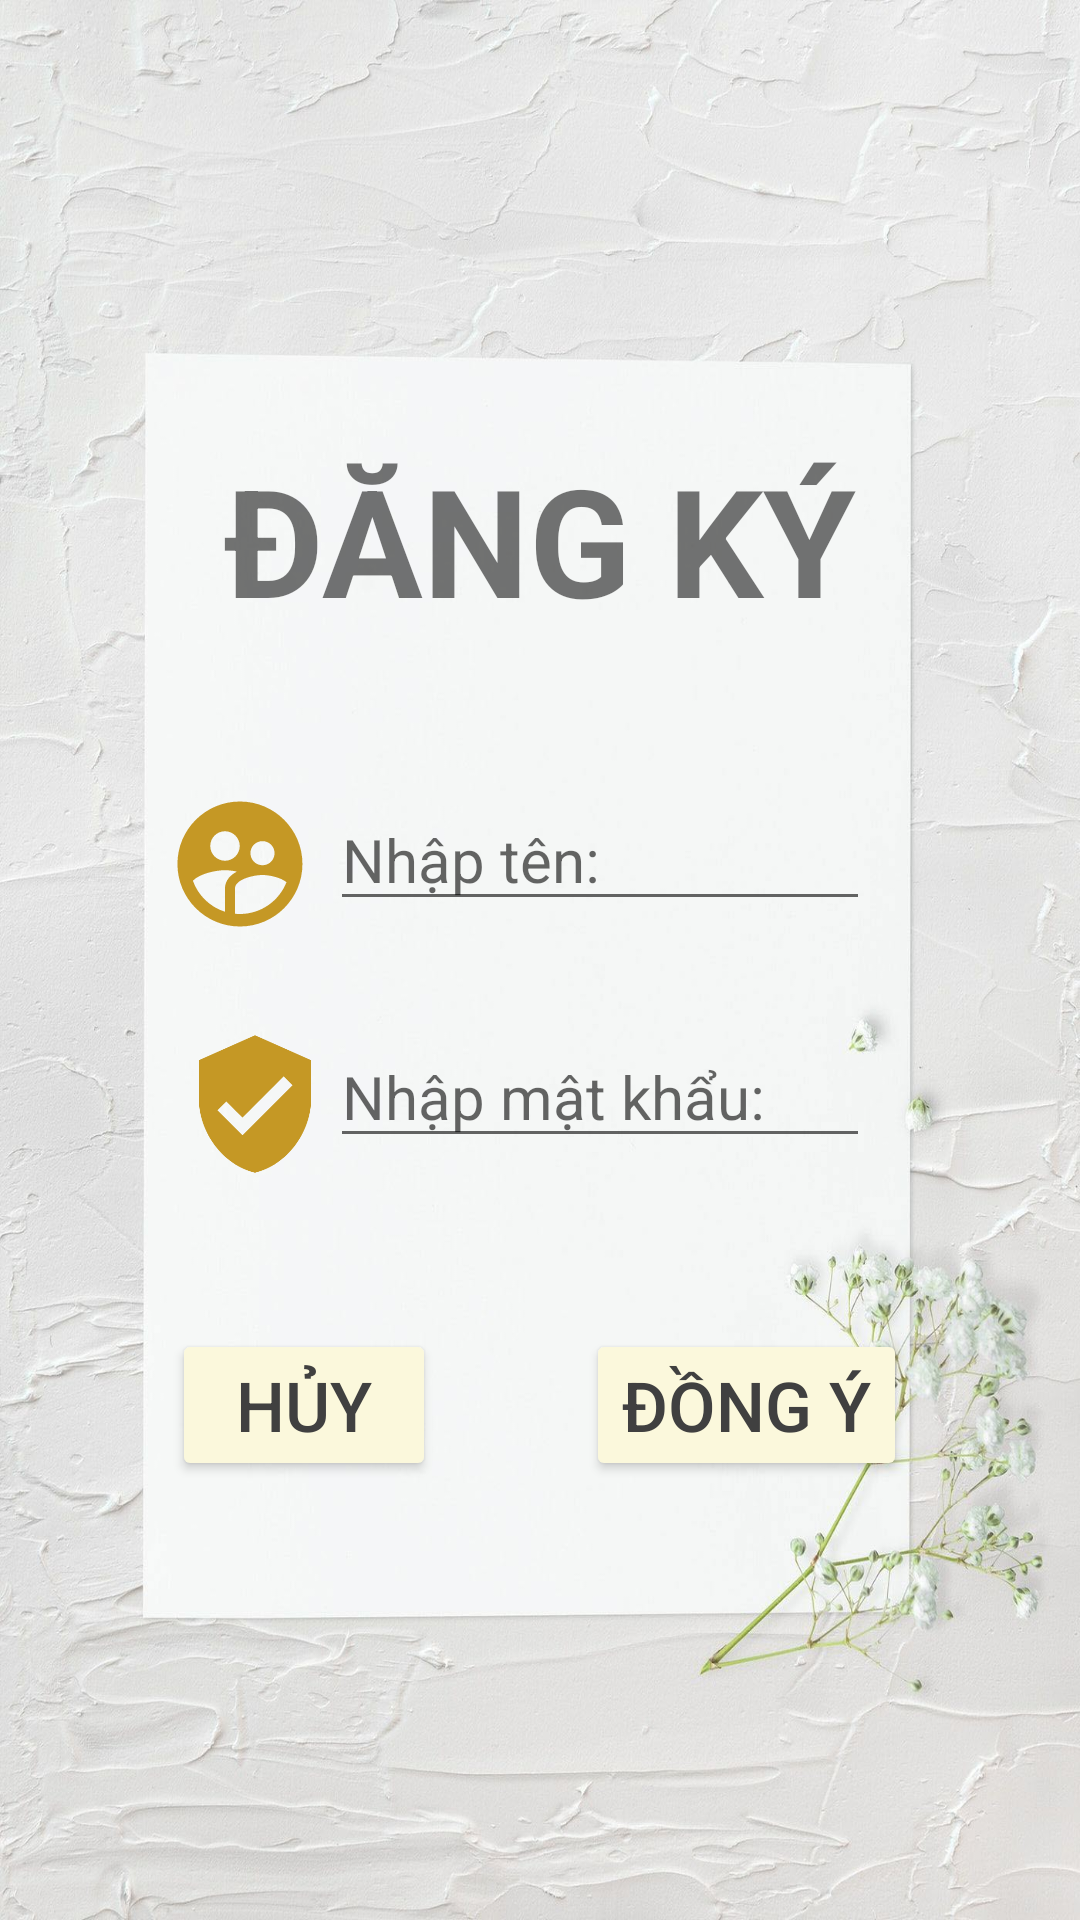

Icon bounding boxes for this 1080x1920 phone screenshot, format [x1=x1, y1=y1, x2=x2, y2=y2]:
nhapten: [x1=177, y1=801, x2=303, y2=927]
pass: [x1=199, y1=1035, x2=311, y2=1173]
